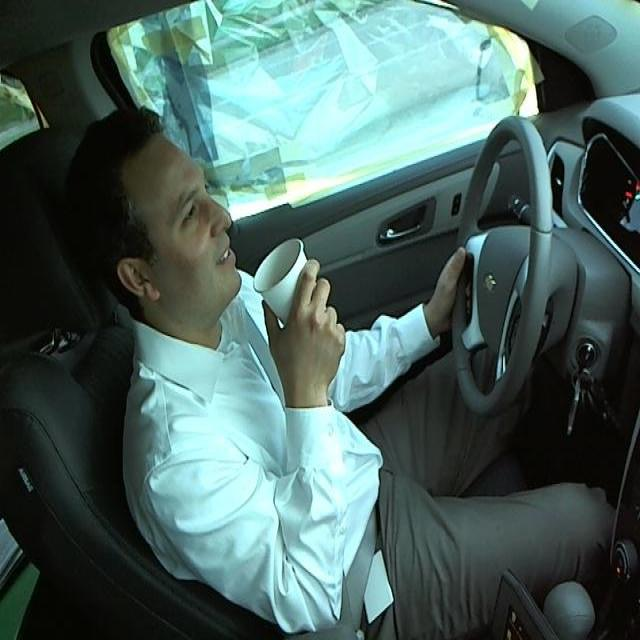Seatbelt: (252, 237, 331, 352)
